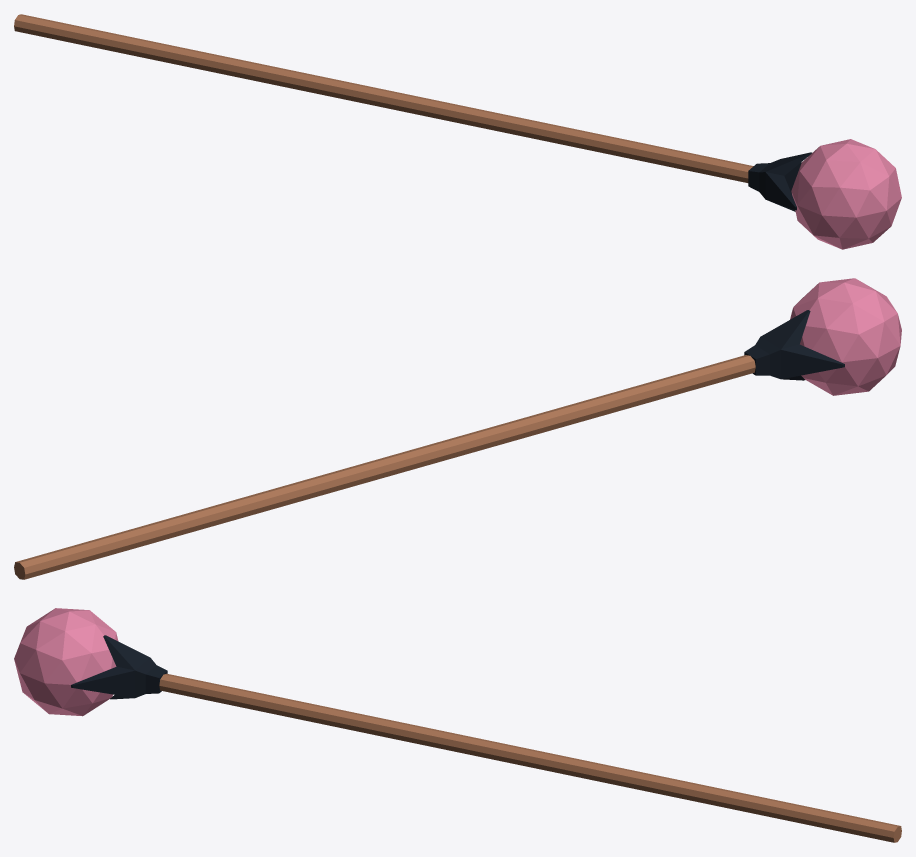
Rendered from scepter.glb.
3 renders of one model, top to bottom at view 1: azimuth 90°, elevation 25°; view 2: azimuth 150°, elevation 25°; view 3: azimuth 270°, elevation 25°, orthographic. The views are drawn at different scales.
Visible parts, largest first — view 1: stick, ball, holder; view 2: stick, ball, holder; view 3: stick, ball, holder.
Boxes of the visible parts, box(x1,y1,x2,y2) form: stick: box(14, 14, 753, 182); ball: box(791, 139, 901, 249); holder: box(748, 152, 811, 211); stick: box(14, 355, 755, 579); ball: box(790, 278, 901, 395); holder: box(744, 310, 844, 380); stick: box(159, 673, 901, 842); ball: box(14, 608, 118, 716); holder: box(71, 635, 167, 699).
Bounding box in the file's own units: 1.4 × 0.3318 × 2.64.
